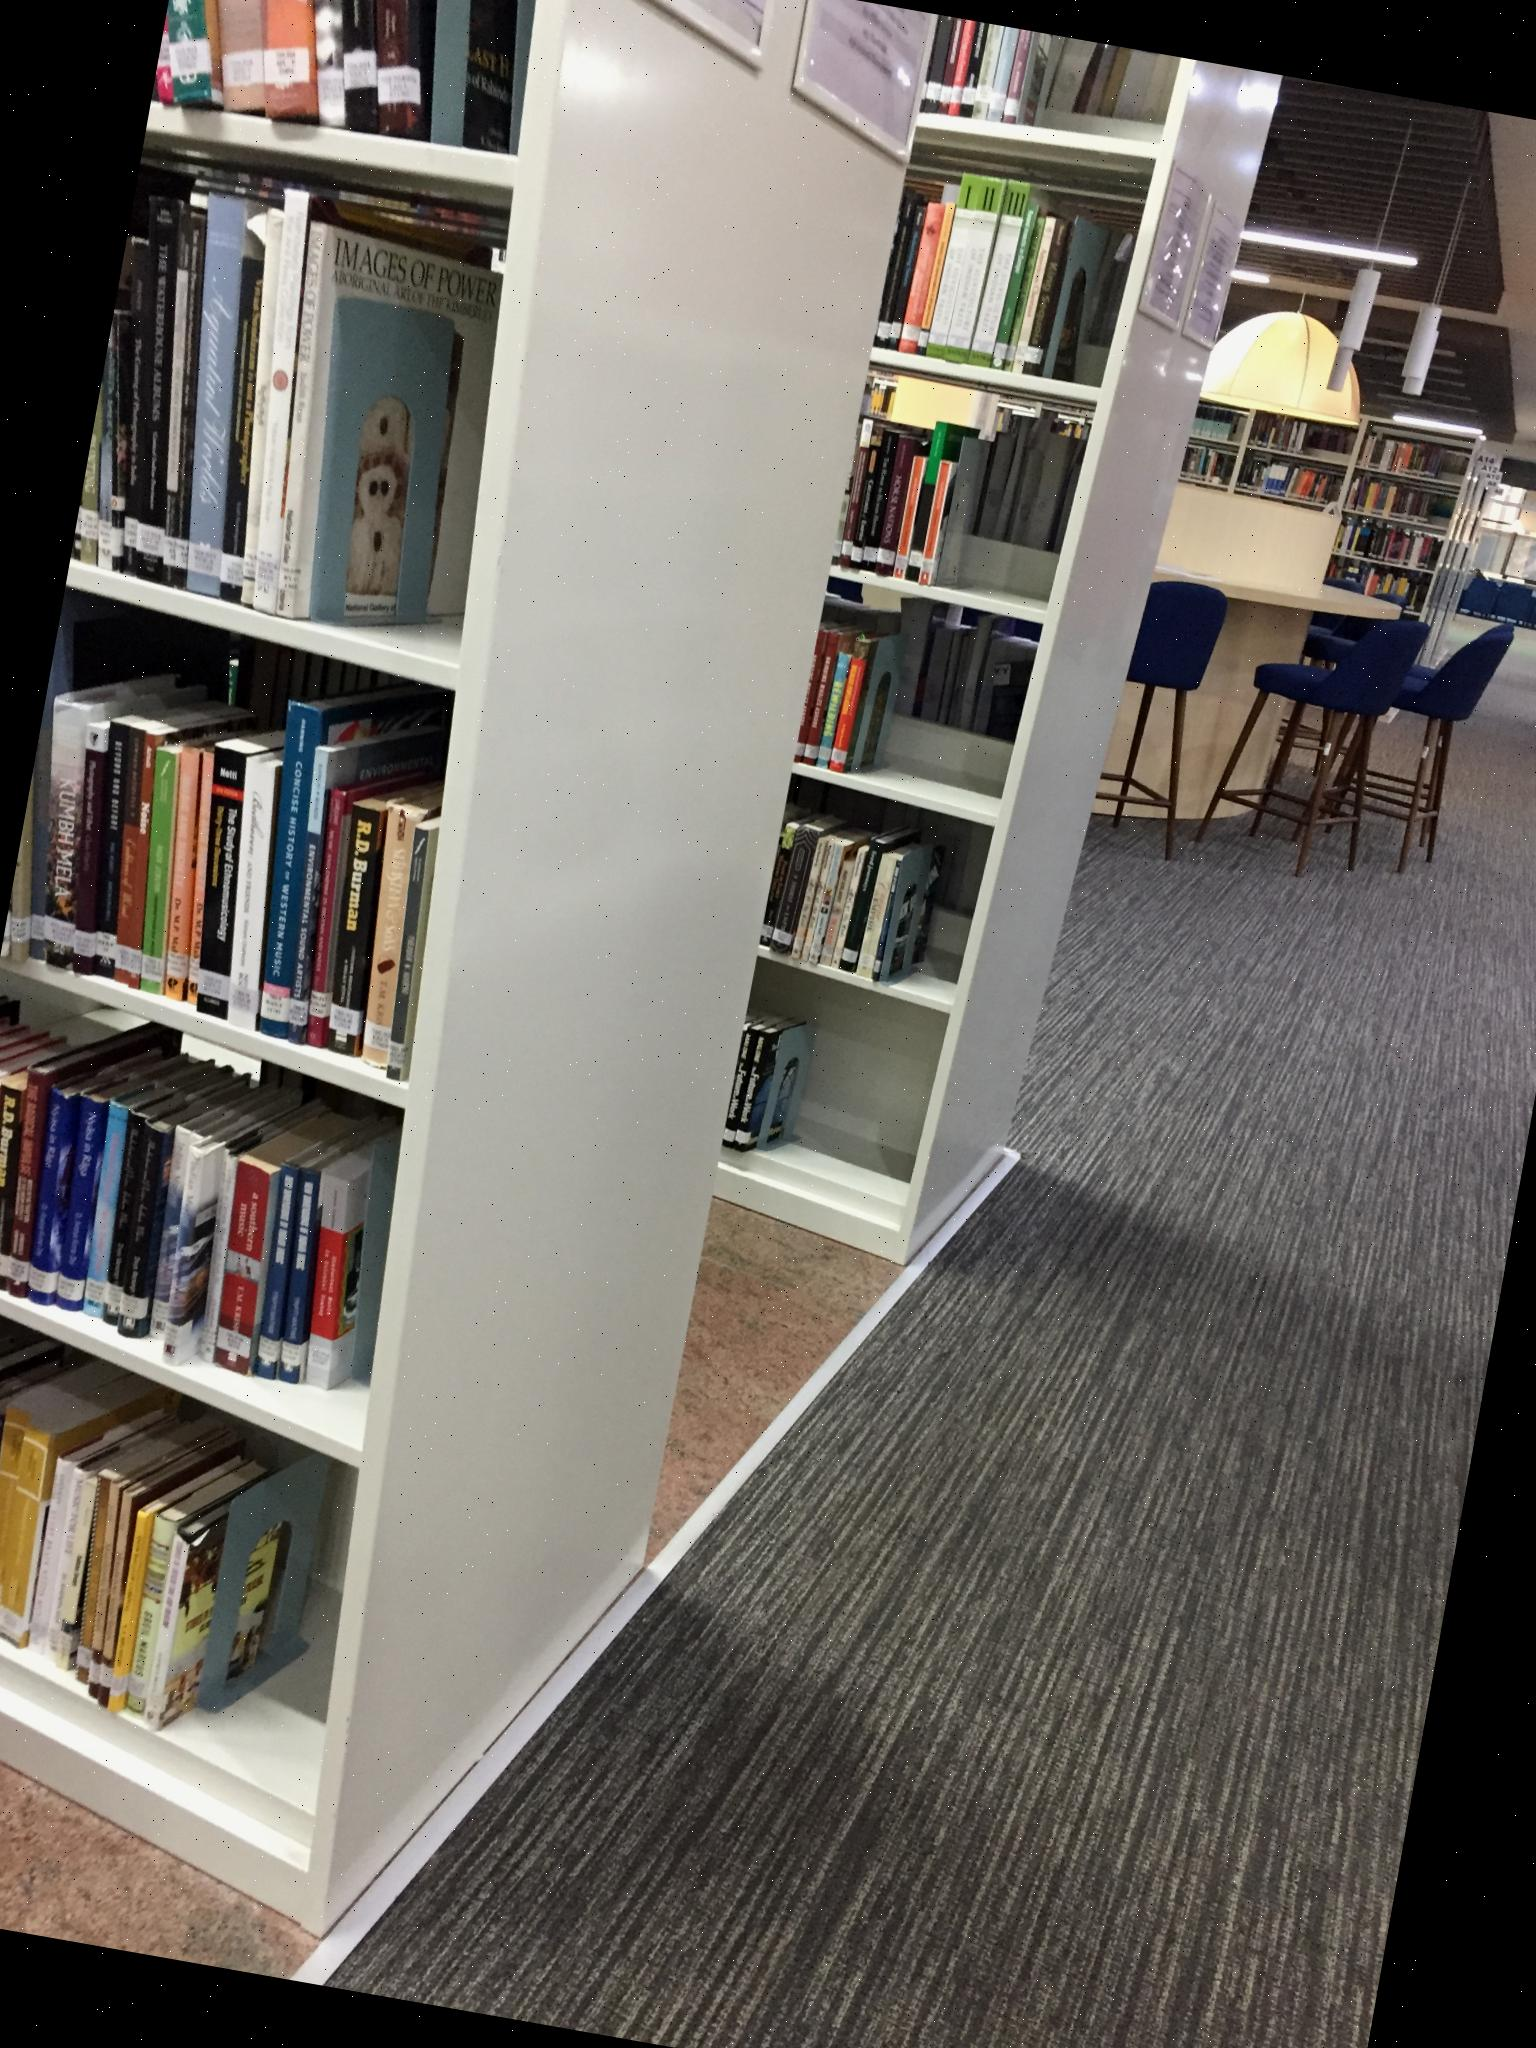chair: (1189, 589, 1431, 890), (1331, 595, 1528, 872), (1267, 540, 1430, 813), (1086, 571, 1231, 861)
